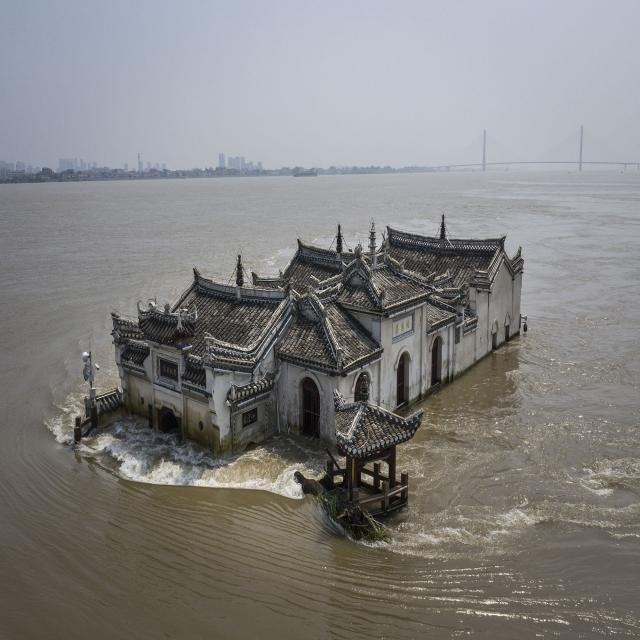flood: (0, 169, 640, 640)
house: (111, 212, 529, 538)
